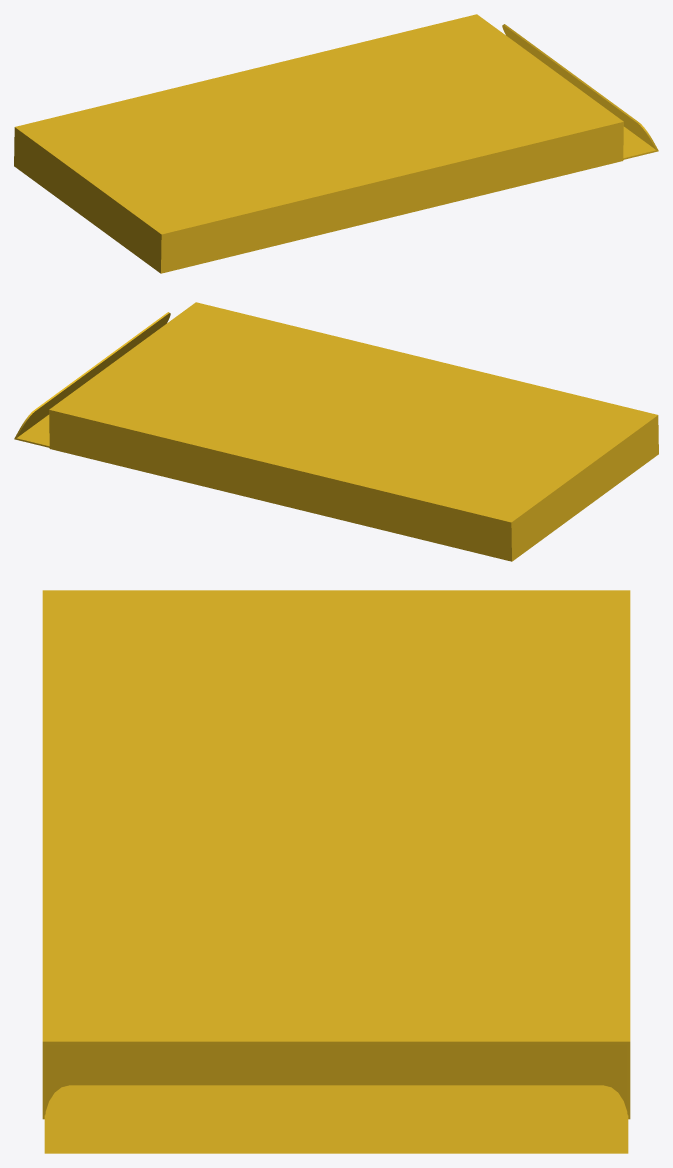
Rendered from aspirin box.fbx.
3 renders of one model, top to bottom at view 1: azimuth 30°, elevation 25°; view 2: azimuth 150°, elevation 25°; view 3: azimuth 270°, elevation 25°, orthographic. The views are drawn at different scales.
Parts seen in each view (by area): view 1: kotak aspirin.001, tutup kotak.004; view 2: kotak aspirin.001, tutup kotak.004; view 3: kotak aspirin.001, tutup kotak.004.
Part boxes in pixels (x1,y1,x2,y2): kotak aspirin.001: (14,14,623,273); tutup kotak.004: (502,24,658,159); kotak aspirin.001: (49,302,658,561); tutup kotak.004: (14,312,170,447); kotak aspirin.001: (42,590,630,1119); tutup kotak.004: (44,1085,628,1153).
Size of the model in its own units: 0.1236 by 0.00926 by 0.0631.
